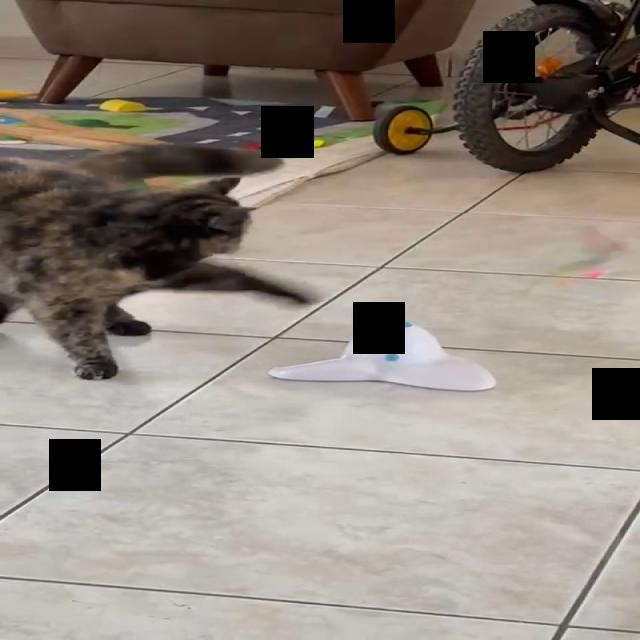authorized: (0, 142, 320, 380)
